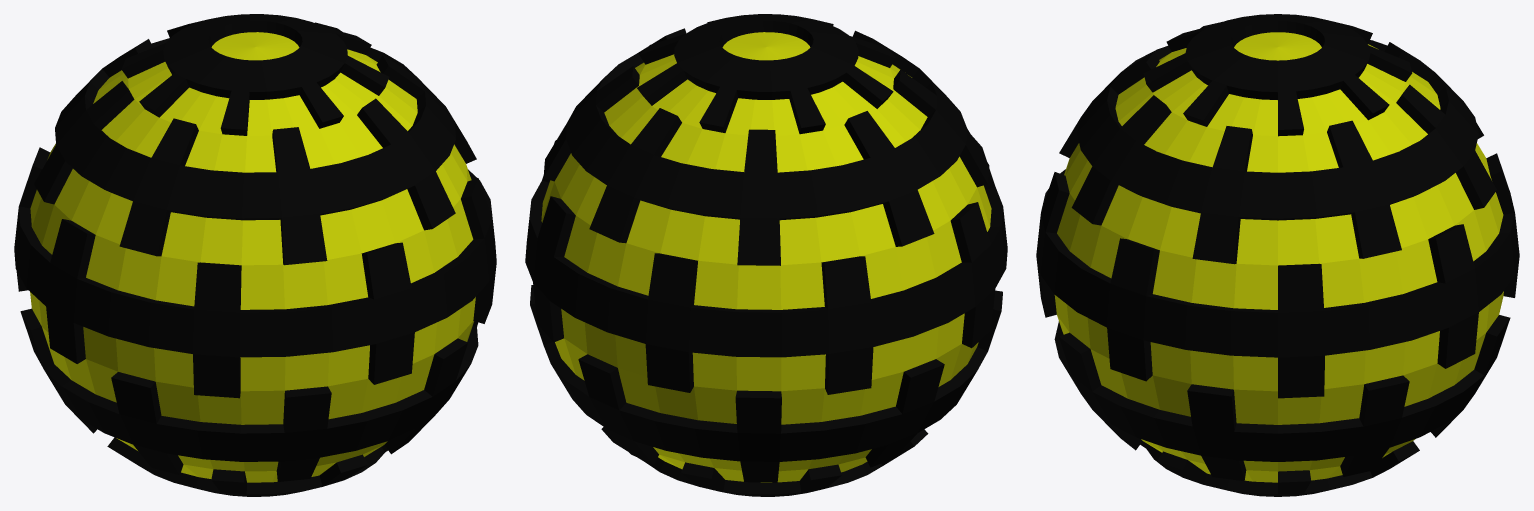
Rendered from BalonDeJuego1.fbx.
3 views of the same model, side by side, from view 1: azimuth 30°, elevation 25°; view 2: azimuth 150°, elevation 25°; view 3: azimuth 270°, elevation 25° (orthographic).
Visible parts, largest first — view 1: Sphere.002; view 2: Sphere.002; view 3: Sphere.002.
Boxes of the visible parts, <box> form: Sphere.002: <box>14,14,496,496</box>; Sphere.002: <box>525,14,1007,496</box>; Sphere.002: <box>1036,14,1519,496</box>.
Bounding box in the file's own units: 200 × 198 × 200.
